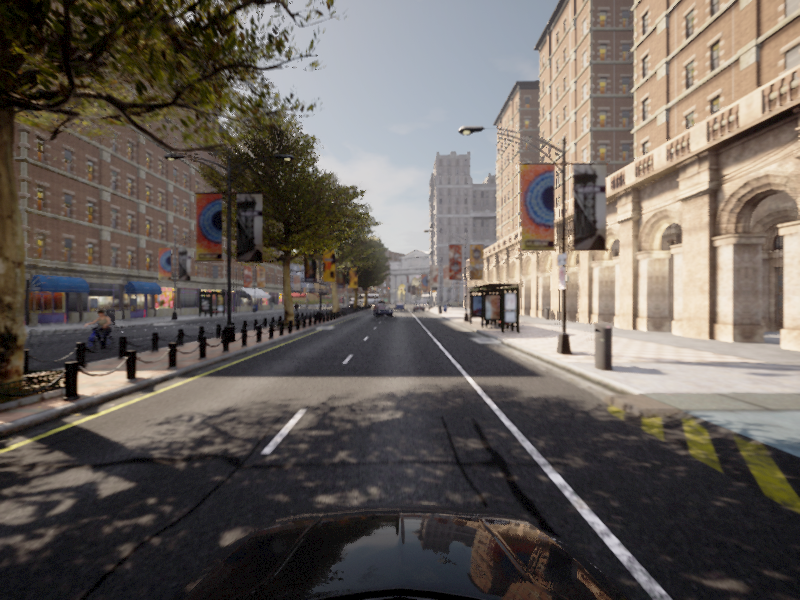vehicle: (72, 309, 124, 354), (1, 307, 22, 342), (372, 305, 393, 318), (290, 301, 300, 318)
